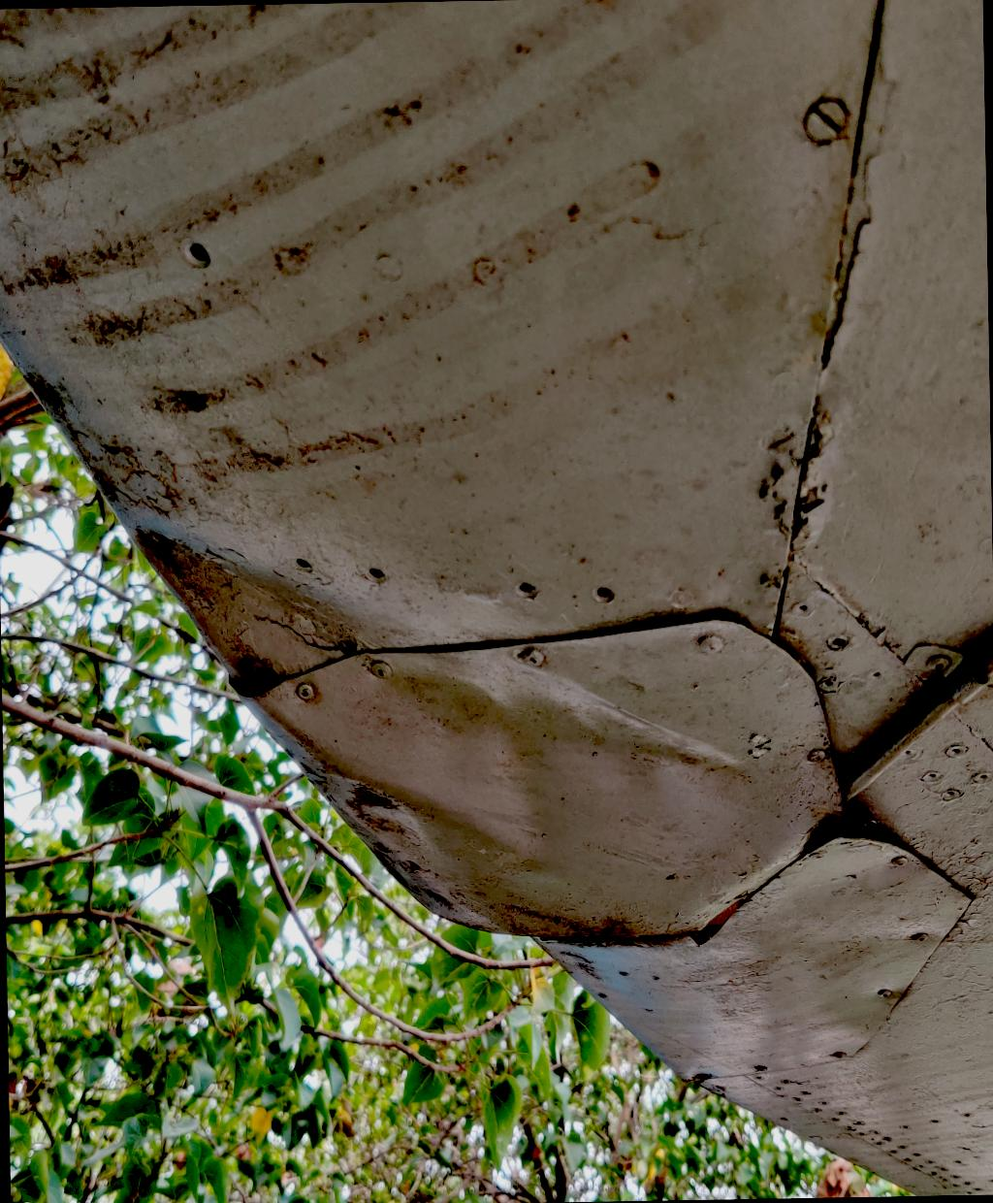dent: (127, 472, 770, 909)
